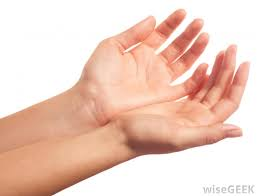palm: (98, 55, 161, 100), (139, 106, 198, 145)
